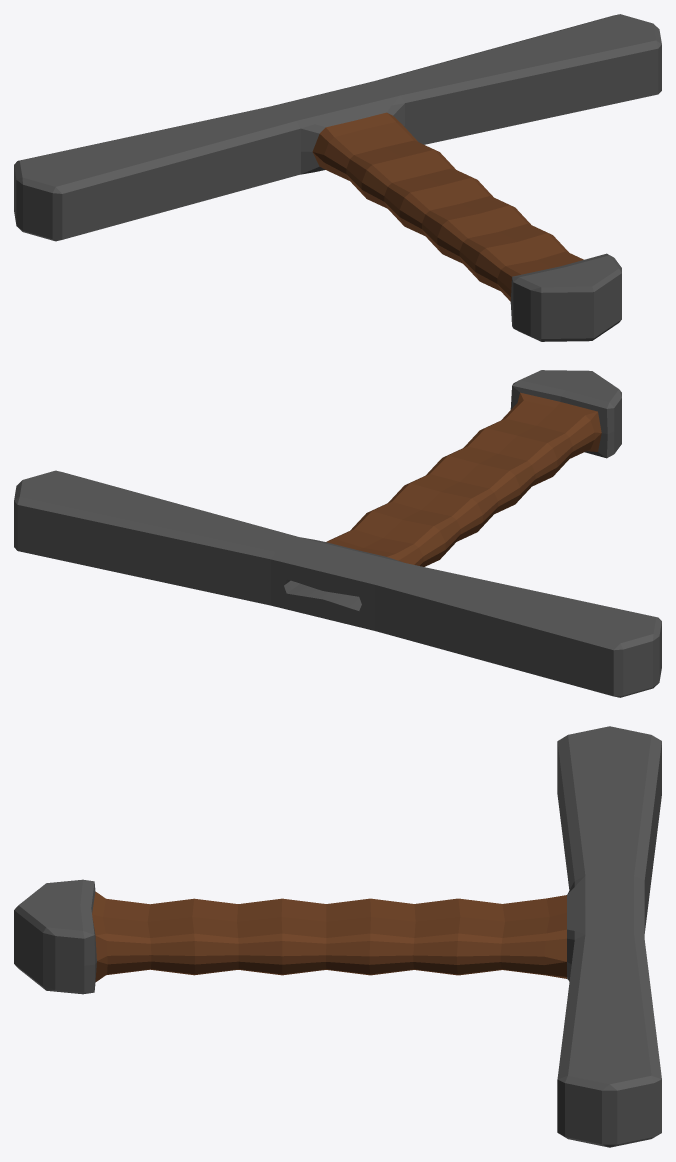
The model's file is Estilete_handguard.fbx.
The picture shows the model from 3 angles, top to bottom: view 1: azimuth 30°, elevation 25°; view 2: azimuth 150°, elevation 25°; view 3: azimuth 270°, elevation 25°; orthographic projection. The views are drawn at different scales.
Parts seen in each view (by area): view 1: HandGuard; view 2: HandGuard; view 3: HandGuard.
Part boxes in pixels (<box>): HandGuard: <box>14,14,661,341</box>; HandGuard: <box>14,370,661,697</box>; HandGuard: <box>14,726,661,1147</box>.
Size of the model in its own units: 61.07 by 5 by 46.3.
